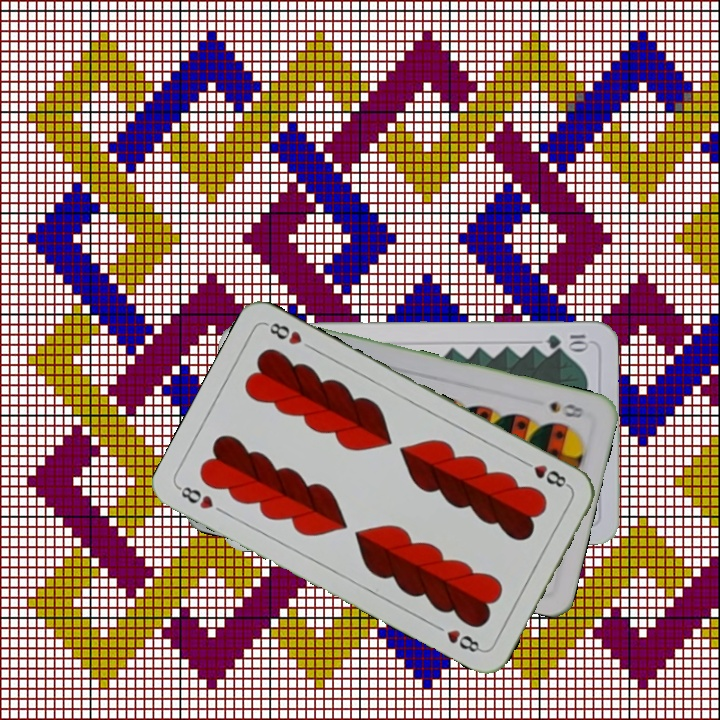G10: (543, 330, 592, 351)
H8: (174, 482, 229, 517), (518, 456, 572, 490)
S8: (545, 397, 587, 421)
